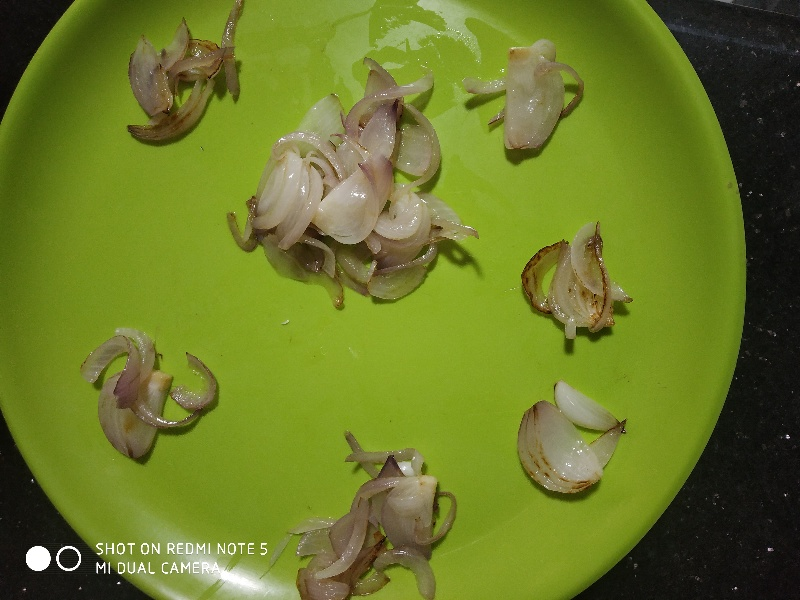onion_golden: (295, 439, 449, 600), (117, 20, 241, 146), (512, 379, 630, 501), (520, 226, 638, 345), (474, 35, 583, 158)
